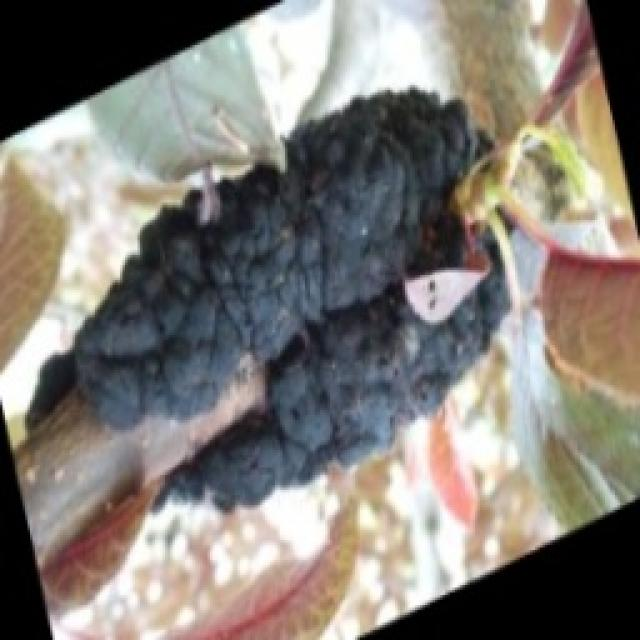Black_knot: (45, 80, 515, 515)
